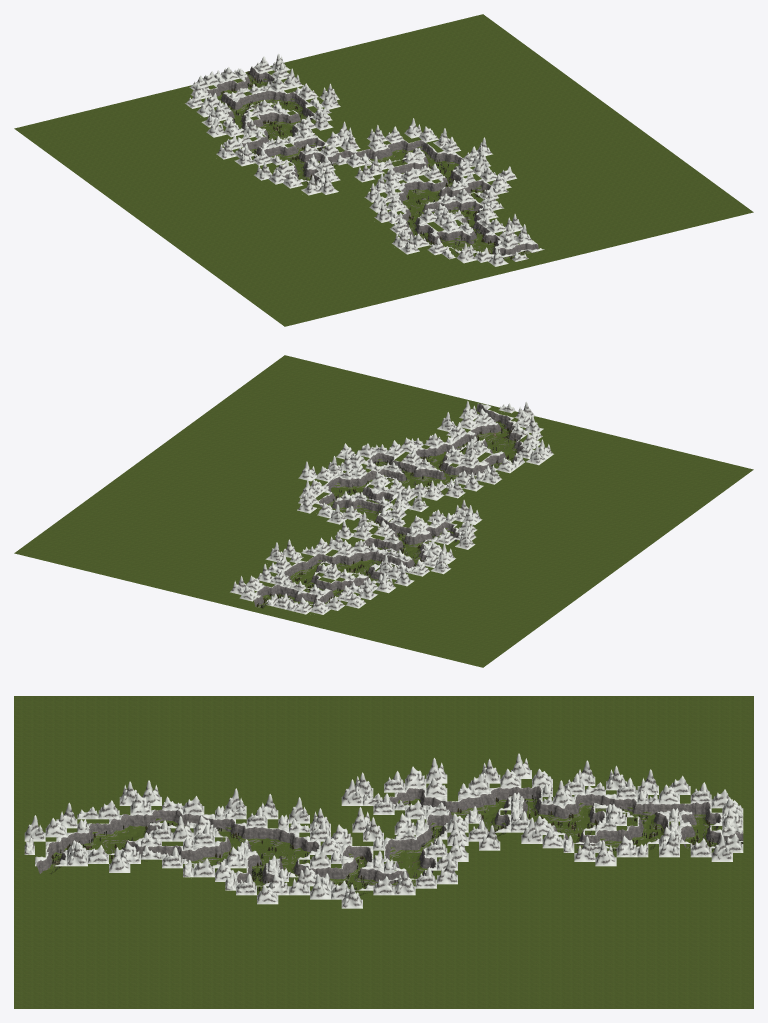
The model's file is map_F02_01.glb.
The picture shows the model from 3 angles, top to bottom: view 1: azimuth 30°, elevation 25°; view 2: azimuth 150°, elevation 25°; view 3: azimuth 270°, elevation 25°; orthographic projection. The views are drawn at different scales.
Parts seen in each view (by area): view 1: default_ground; view 2: default_ground; view 3: default_ground.
Part boxes in pixels (box(x1,y1,x2,y2)): default_ground: box(14, 14, 753, 326); default_ground: box(14, 355, 753, 667); default_ground: box(14, 696, 753, 1008).
Bounding box in the file's own units: 2520 × 135 × 2520.
Materials: 460 (460 with a texture image).
